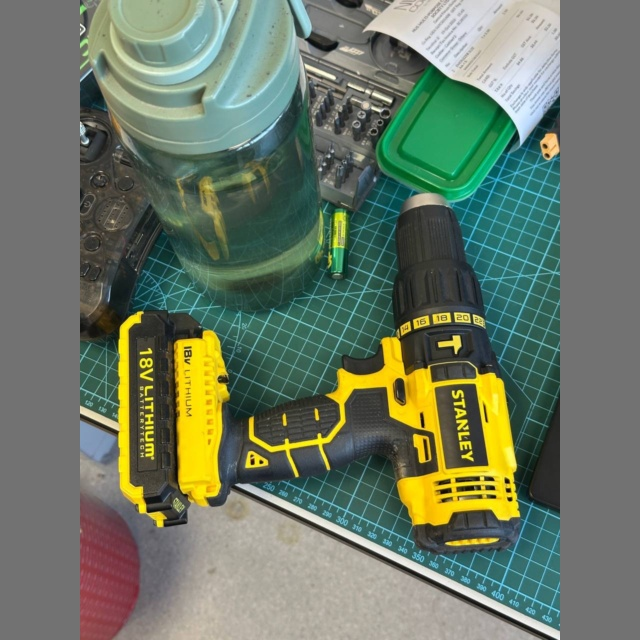drill: (119, 194, 522, 554)
